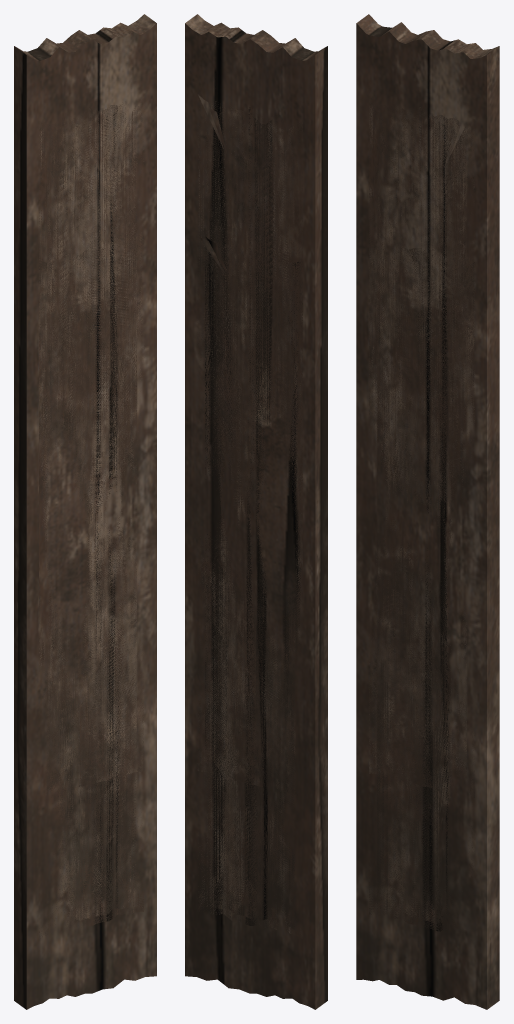
File: Boards.fbx
3 views of the same model, side by side, from view 1: azimuth 30°, elevation 25°; view 2: azimuth 150°, elevation 25°; view 3: azimuth 330°, elevation 25° (orthographic).
Parts seen in each view (by area): view 1: Board, Board1, Board4, Board3, Board2; view 2: Board, Board4, Board1, Board2, Board3; view 3: Board, Board4, Board1, Board2, Board3.
Part boxes in pixels (<box>): Board: <box>14,14,156,1009</box>; Board1: <box>39,95,144,937</box>; Board4: <box>47,105,135,924</box>; Board3: <box>46,237,136,794</box>; Board2: <box>39,236,144,791</box>; Board: <box>185,14,327,1009</box>; Board4: <box>206,106,294,929</box>; Board1: <box>197,94,302,938</box>; Board2: <box>197,235,302,794</box>; Board3: <box>205,237,295,795</box>; Board: <box>356,14,499,1009</box>; Board4: <box>377,106,465,925</box>; Board1: <box>369,94,474,932</box>; Board2: <box>369,235,474,797</box>; Board3: <box>376,243,466,792</box>.
Size of the model in its own units: 30 by 210 by 5.
